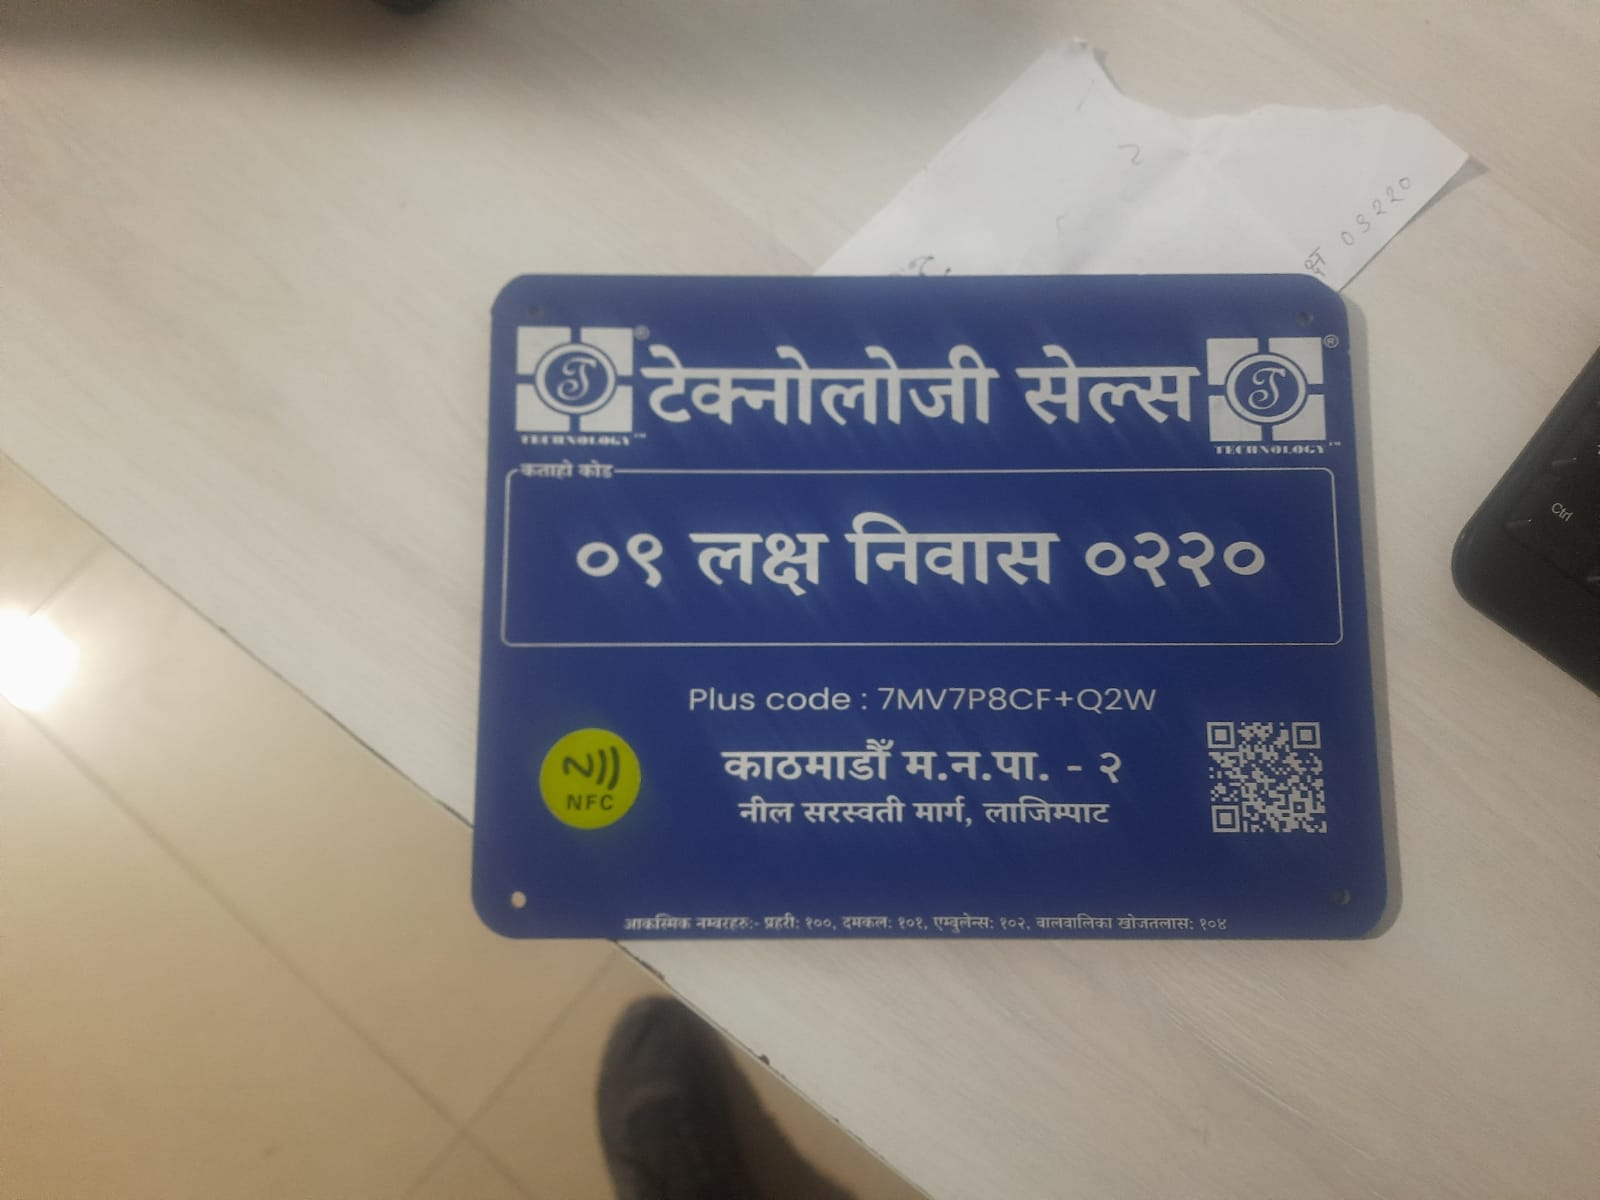Plate: (468, 267, 1398, 949)
